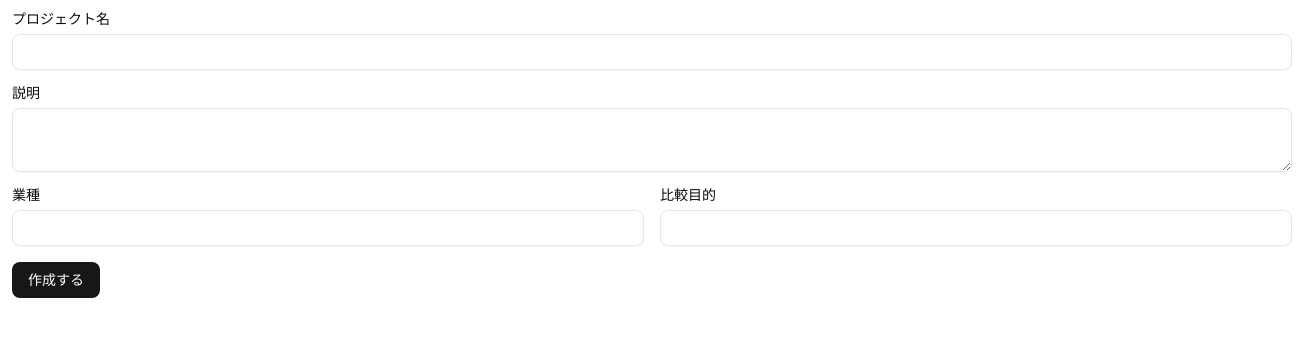
Test: ProjectForm › shows a validation error when the name is empty
Click the button "作成する" at (56, 280), box [12,262,100,298]
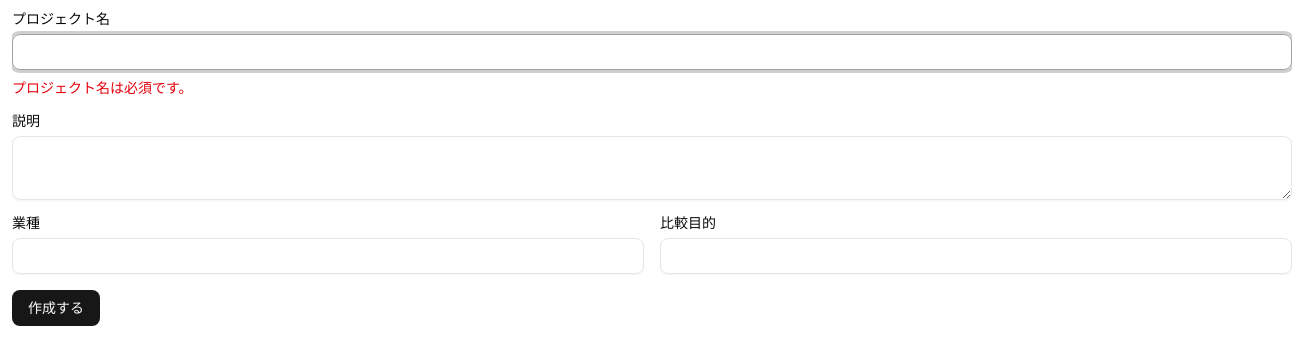
Result: the text "プロジェクト名は必須です。" is shown at [12,78,193,97]
